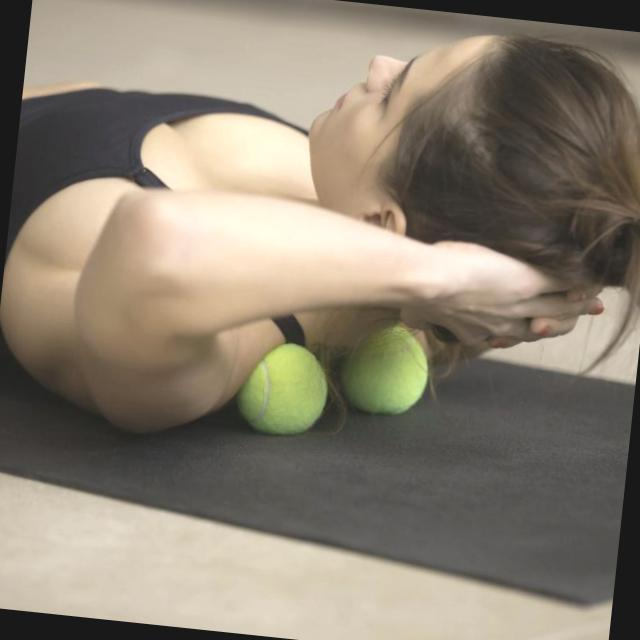ball: (233, 334, 339, 444)
